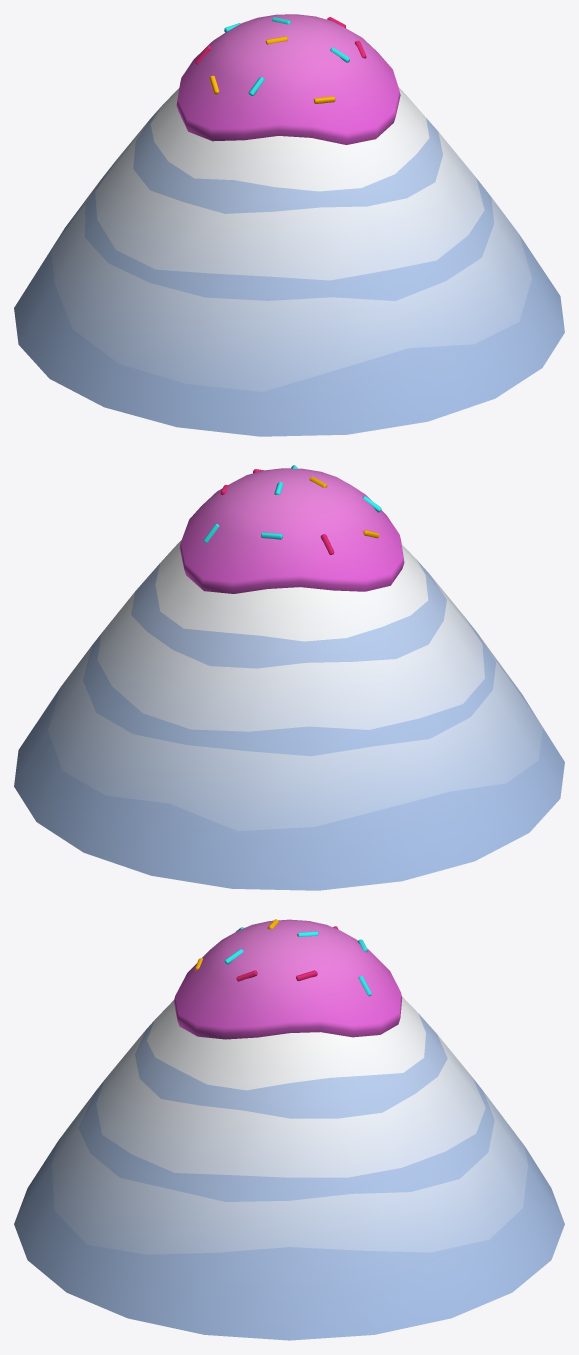
Rendered from Mountain_01.glb.
3 renders of one model, top to bottom at view 1: azimuth 30°, elevation 25°; view 2: azimuth 150°, elevation 25°; view 3: azimuth 270°, elevation 25°, orthographic.
Visible parts, largest first — view 1: Mountain_01; view 2: Mountain_01; view 3: Mountain_01.
Part boxes in pixels (left/top/right/bottom): Mountain_01: left=14, top=14, right=564, bottom=436; Mountain_01: left=14, top=465, right=564, bottom=890; Mountain_01: left=14, top=919, right=564, bottom=1340.
Bounding box in the file's own units: 41.54 × 24.41 × 41.54.
1 material, 1 textured.
